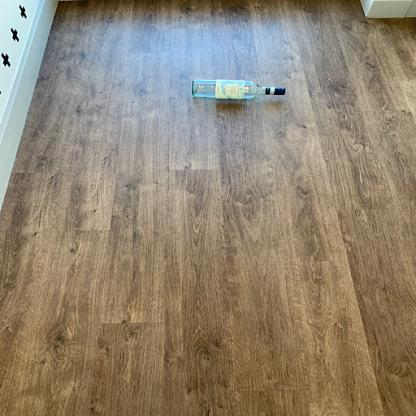trash: (188, 78, 288, 102)
